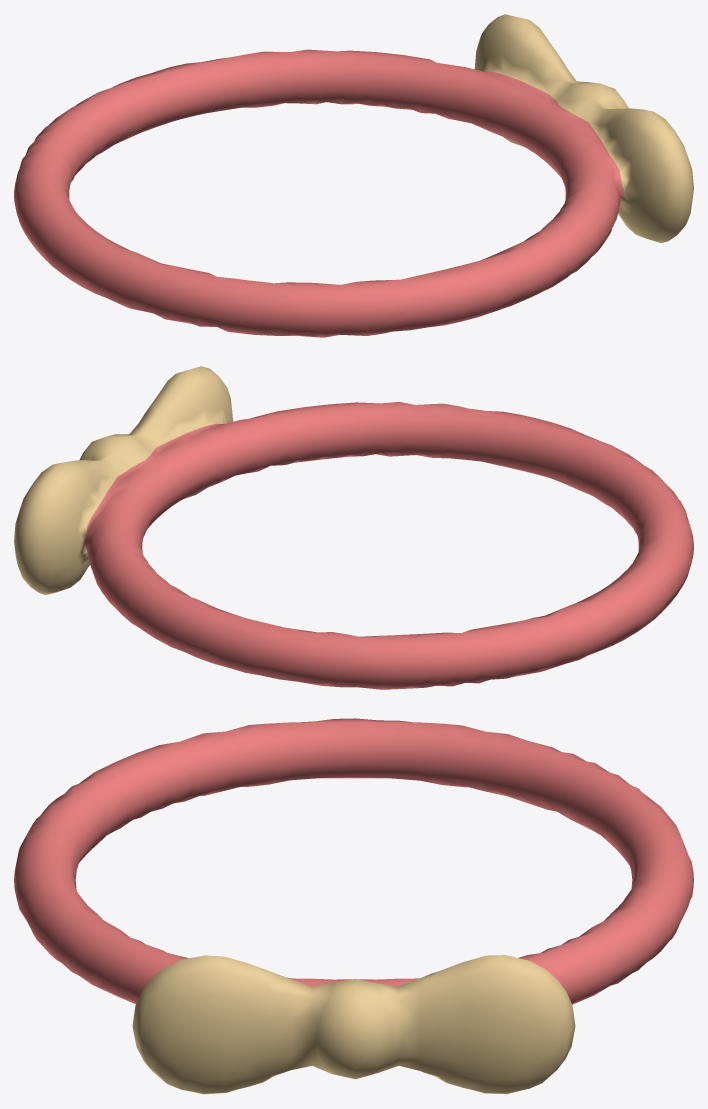
The model's file is acc_bowtie.glb.
3 views of the same model, one above another, from view 1: azimuth 30°, elevation 25°; view 2: azimuth 150°, elevation 25°; view 3: azimuth 270°, elevation 25° (orthographic). The views are drawn at different scales.
Visible parts, largest first — view 1: body; view 2: body; view 3: body.
Part boxes in pixels (x1,y1,x2,y2): body: (14,14,693,337); body: (14,366,693,689); body: (14,718,693,1094).
Size of the model in its own units: 0.7199 by 0.1496 by 0.6599.
